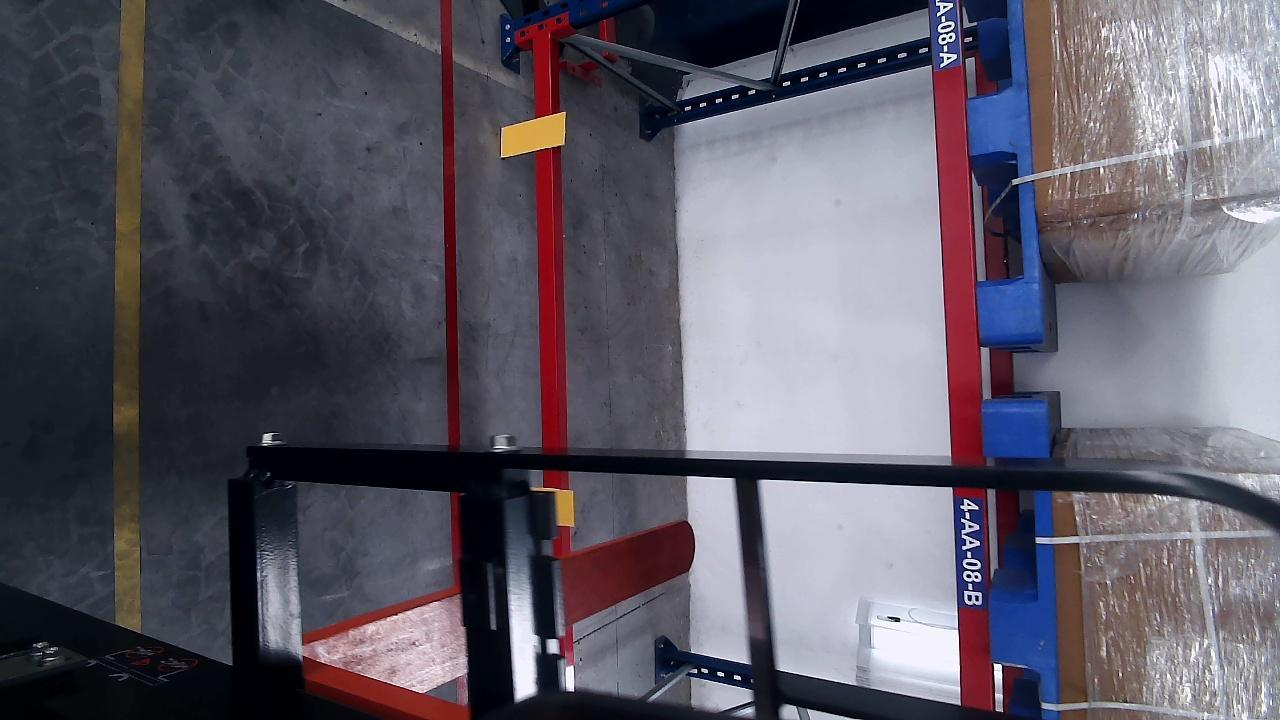h_rack: (933, 1, 994, 706), (531, 31, 566, 486)
orange_strip: (501, 111, 567, 159)
red_line: (442, 3, 463, 445)
small_pallet: (962, 0, 1047, 339), (987, 405, 1055, 714)
yellow_line: (115, 0, 146, 634)
